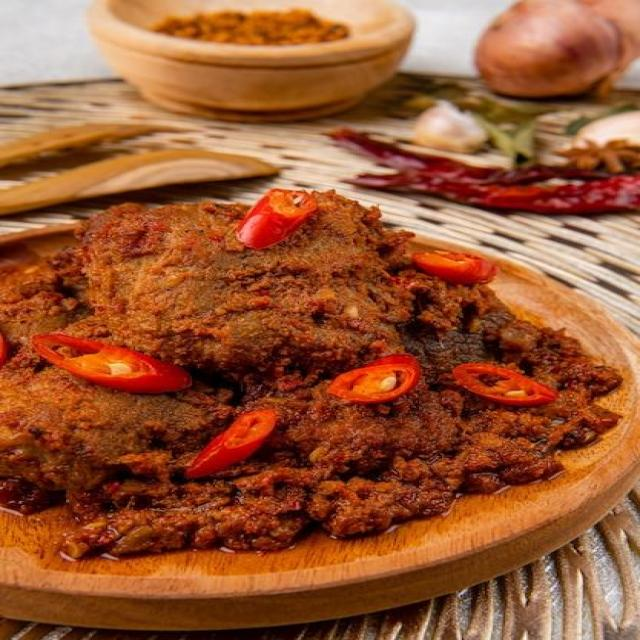Rendang: (0, 190, 637, 562)
